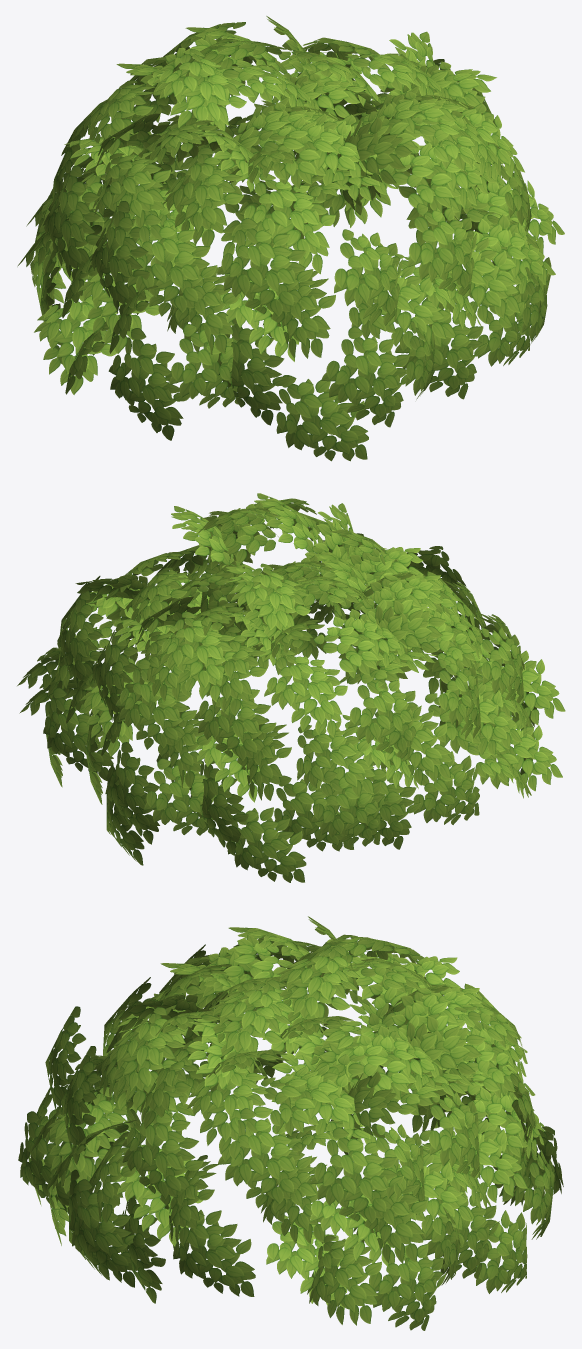
File: Fanta Leaves #1 double sided.fbx
3 views of the same model, one above another, from view 1: azimuth 30°, elevation 25°; view 2: azimuth 150°, elevation 25°; view 3: azimuth 270°, elevation 25° (orthographic). The views are drawn at different scales.
Parts seen in each view (by area): view 1: Fanta Leaves #1; view 2: Fanta Leaves #1; view 3: Fanta Leaves #1.
Part boxes in pixels (bbox=[...]): Fanta Leaves #1: bbox=[17, 16, 564, 461]; Fanta Leaves #1: bbox=[17, 493, 565, 882]; Fanta Leaves #1: bbox=[18, 916, 563, 1330].
Size of the model in its own units: 367 by 196 by 330.
